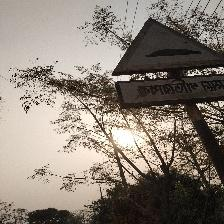Speed-breaker: (111, 17, 224, 110)
